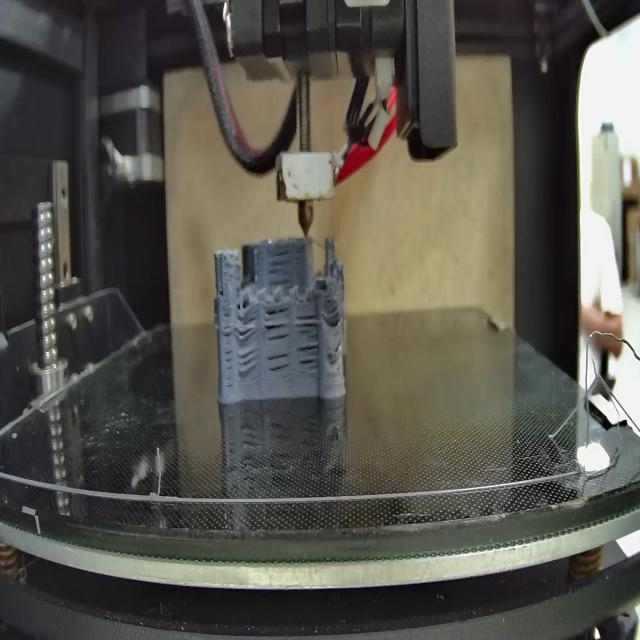cracks: (266, 247, 294, 287), (263, 306, 293, 339), (266, 350, 294, 379), (234, 309, 257, 344), (298, 343, 320, 375), (224, 315, 233, 393), (295, 309, 317, 335), (238, 350, 258, 377), (328, 303, 342, 326), (333, 334, 342, 358), (219, 282, 225, 303)
